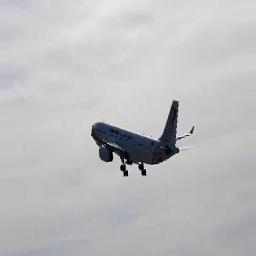Airplane: (89, 96, 195, 177)
